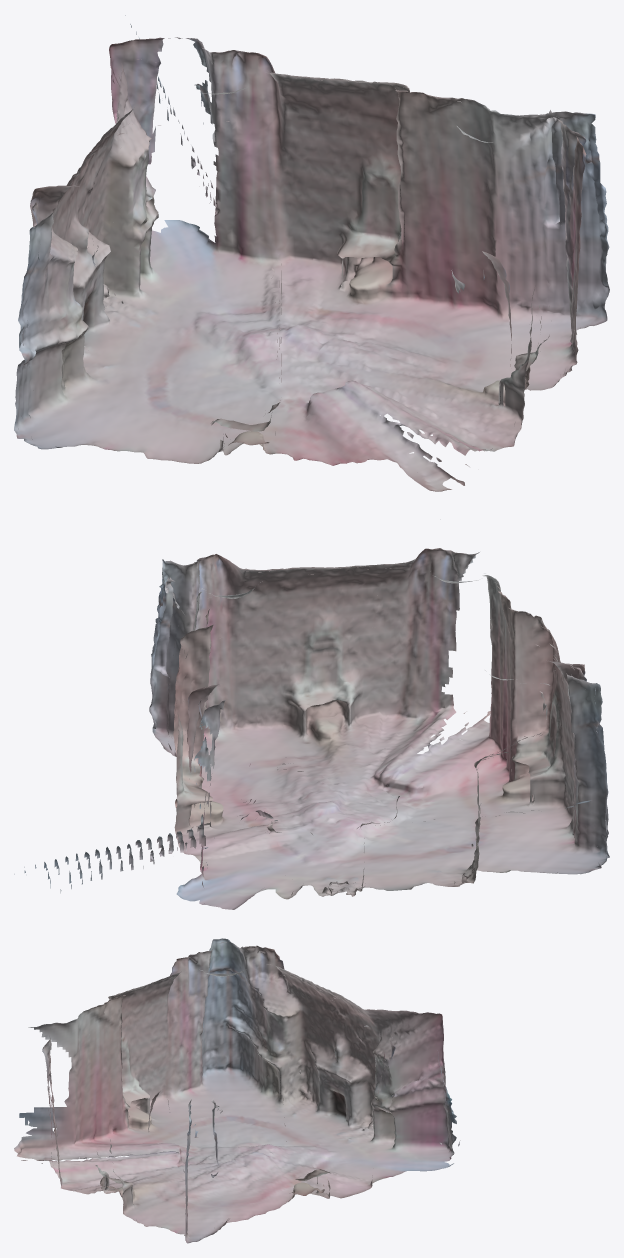
Rendered from angelic-quartz-chamber-1-1-E2_collider.glb.
The picture shows the model from 3 angles, top to bottom: view 1: azimuth 30°, elevation 25°; view 2: azimuth 150°, elevation 25°; view 3: azimuth 270°, elevation 25°; orthographic projection. The views are drawn at different scales.
Visible parts, largest first — view 1: world; view 2: world; view 3: world.
Boxes of the visible parts, left/top/right/bottom form: world: left=14, top=15, right=609, bottom=491; world: left=14, top=548, right=609, bottom=909; world: left=14, top=938, right=460, bottom=1243.
Size of the model in its own units: 13.64 by 7.27 by 19.21.
